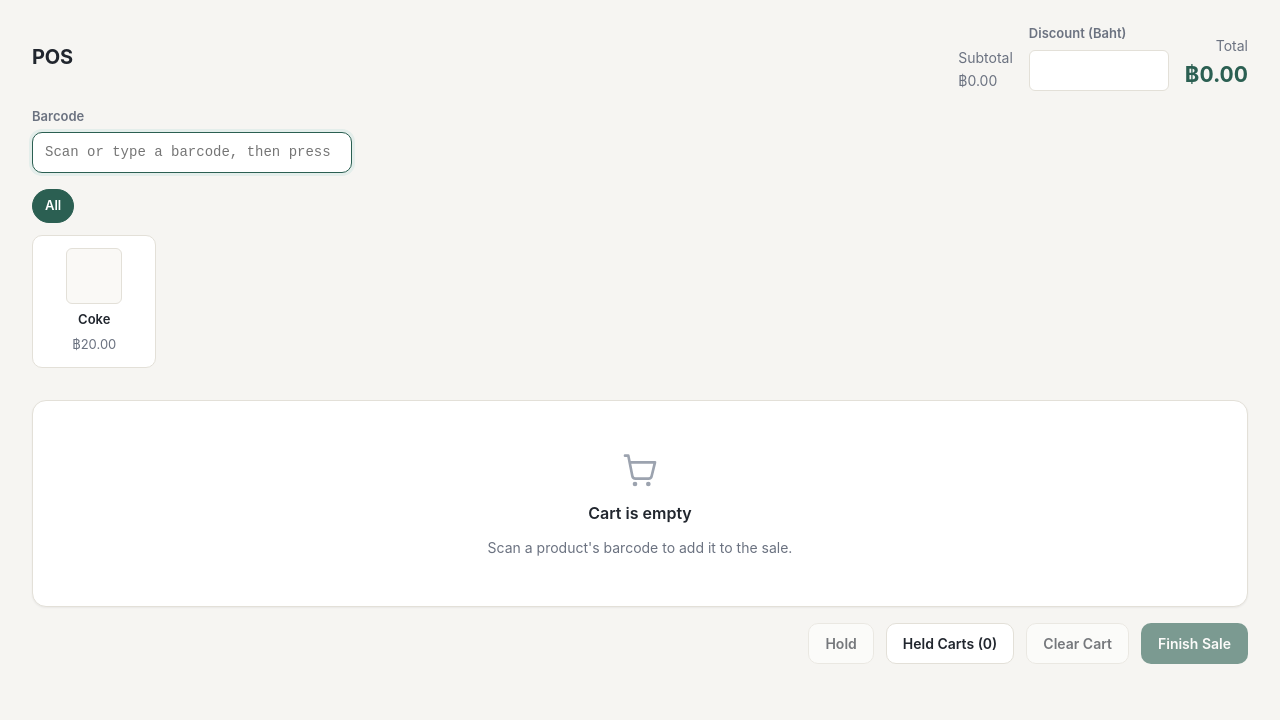
Test case: PosPage › adds a scanned product to the cart and updates the total
The width and height of the screenshot is (1280, 720).
Type "111" into the field labelled "Barcode" at (192, 152), box [32,132,352,173]
Then press Enter
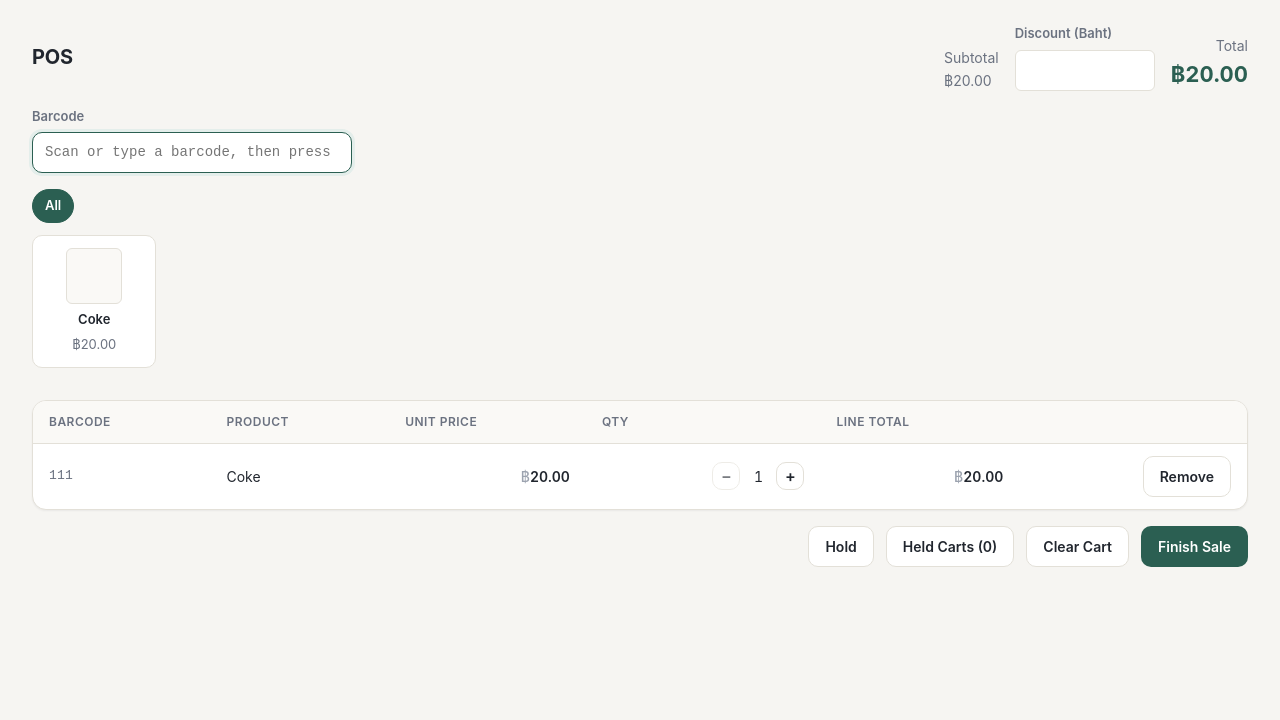
Expected: the cell "Coke" is shown, [210,443,389,508]
Expected: the text named "Cart total" reads "฿20.00", [1171,60,1248,86]
